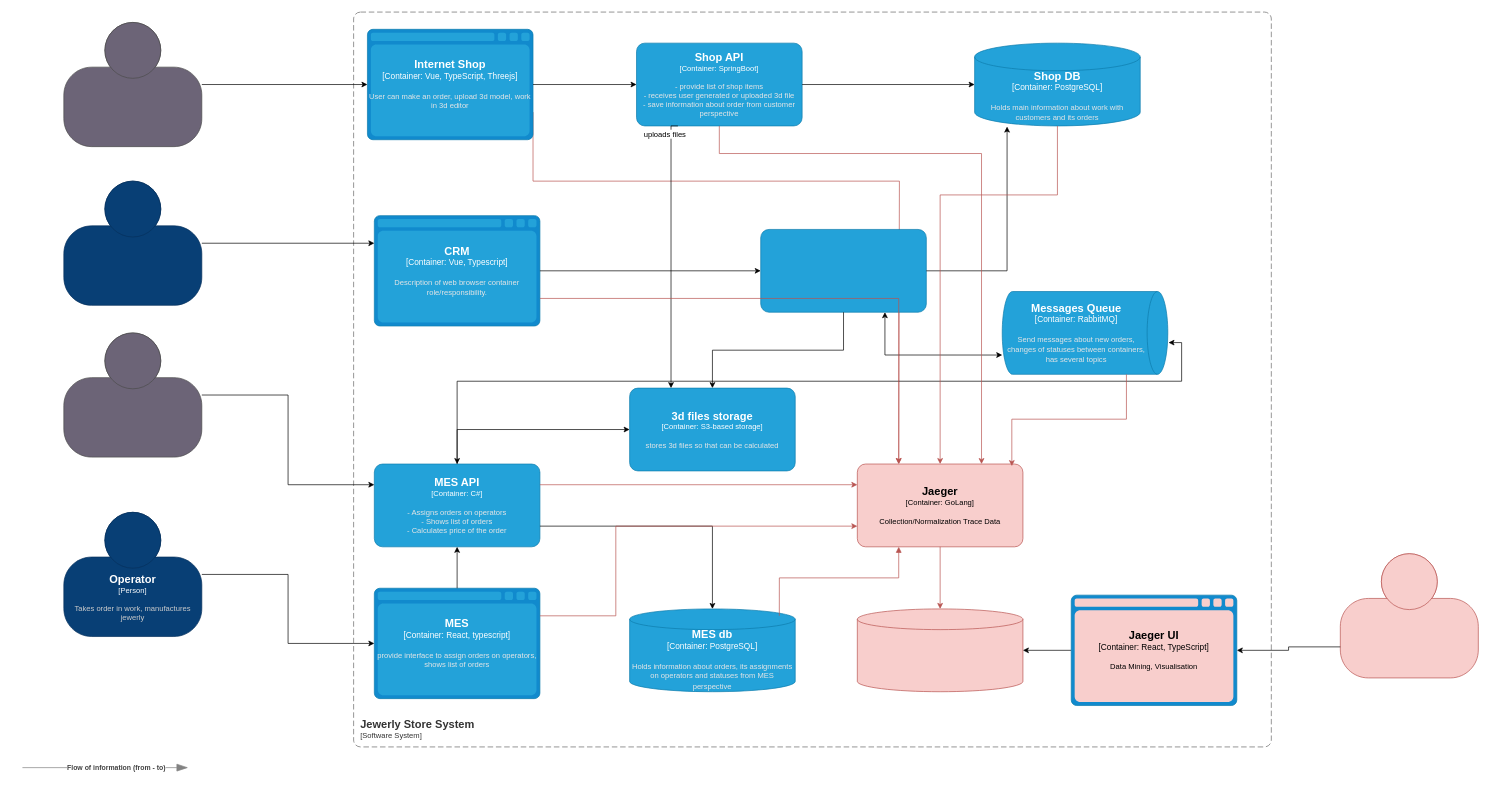
The diagram is 1490 pixels wide and 791 high, and some of its shapes have lost their labels. Here are the shapes that lost their labels. From the top down, the centre of each, then its label:
At [132,84]: "Customer [Person] Description of external person.".
At [132,242]: "Seller [Person] Operates with order, confirms manufacturing for the user".
At [843,270]: "CRM API [Container: SpringBoot] Description of container role/responsibility.".
At [132,394]: "API user [Person] Description of external person.".
At [1409,615]: "Developer [Person] Trace Analysis".
At [940,650]: "Jaeger DB [Container: Cassandra] Trace Storage".
